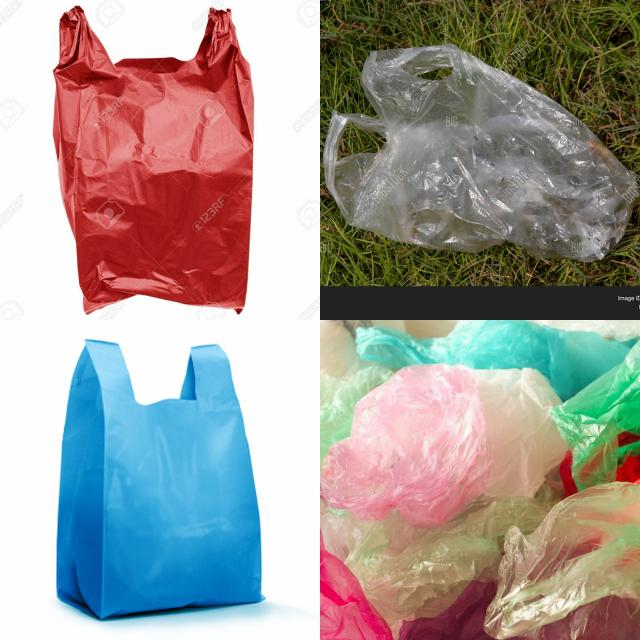Single-layer Plastic: (324, 44, 639, 261), (54, 6, 254, 314), (56, 340, 262, 619), (321, 496, 546, 626), (321, 364, 492, 527), (484, 482, 640, 640), (356, 320, 636, 400), (551, 340, 640, 490), (474, 368, 568, 498), (320, 320, 394, 462), (320, 541, 392, 639)
